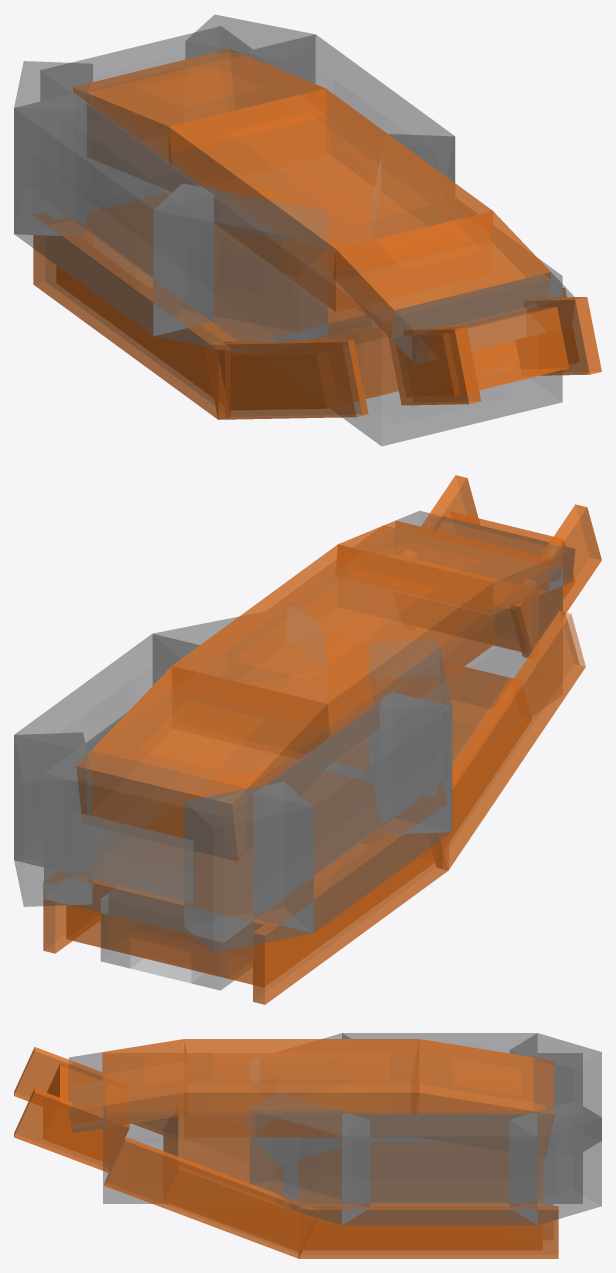
The model's file is Drone_Submarine_-_Low_Poly.glb.
3 renders of one model, top to bottom at view 1: azimuth 30°, elevation 25°; view 2: azimuth 150°, elevation 25°; view 3: azimuth 270°, elevation 25°, orthographic. The views are drawn at different scales.
Parts seen in each view (by area): view 1: unnamed (×18); view 2: unnamed (×20); view 3: unnamed (×17).
Boxes of the visible parts, x1,y1,x2,y2 form: unnamed (×18): [14, 14, 601, 446]; unnamed (×20): [14, 475, 601, 1004]; unnamed (×17): [14, 1033, 601, 1258].
Bounding box in the file's own units: 0.3126 × 0.2194 × 0.7505.
1 material, 1 textured.
